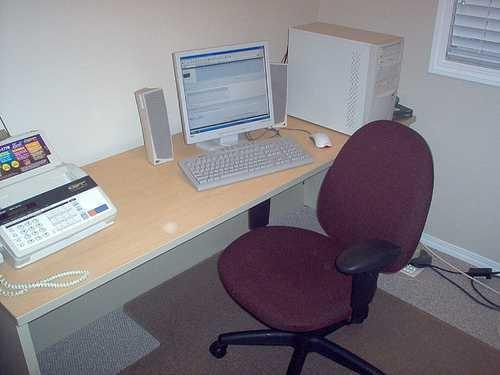Keyboard: (181, 132, 314, 194)
